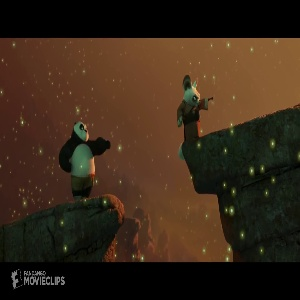po: (56, 119, 114, 199)
shifu: (175, 73, 215, 139)
